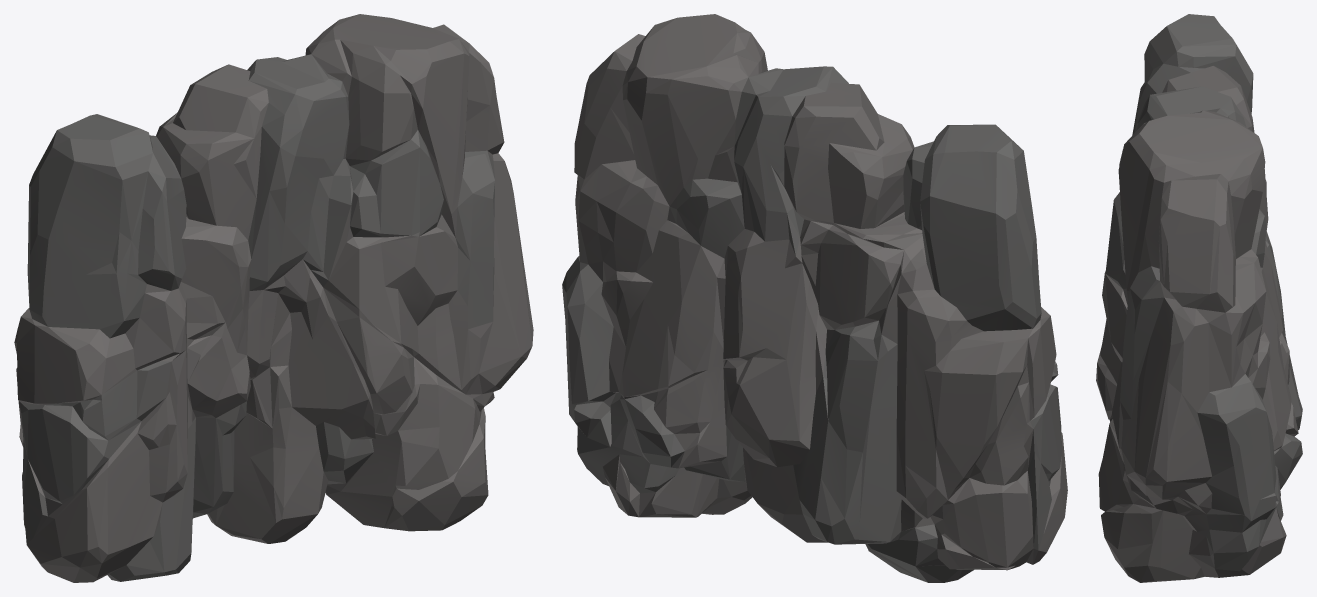
File: RocksOne.fbx
3 renders of one model, left to right at view 1: azimuth 30°, elevation 25°; view 2: azimuth 150°, elevation 25°; view 3: azimuth 270°, elevation 25°, orthographic. The views are drawn at different scales.
Parts seen in each view (by area): view 1: rock_a__10_; view 2: rock_a__10_; view 3: rock_a__10_.
Boxes of the visible parts, x1=… form: rock_a__10_: x1=14, y1=14, x2=533, y2=582; rock_a__10_: x1=562, y1=14, x2=1067, y2=582; rock_a__10_: x1=1096, y1=14, x2=1302, y2=582.
Bounding box in the file's own units: 1088 × 1050 × 446.
